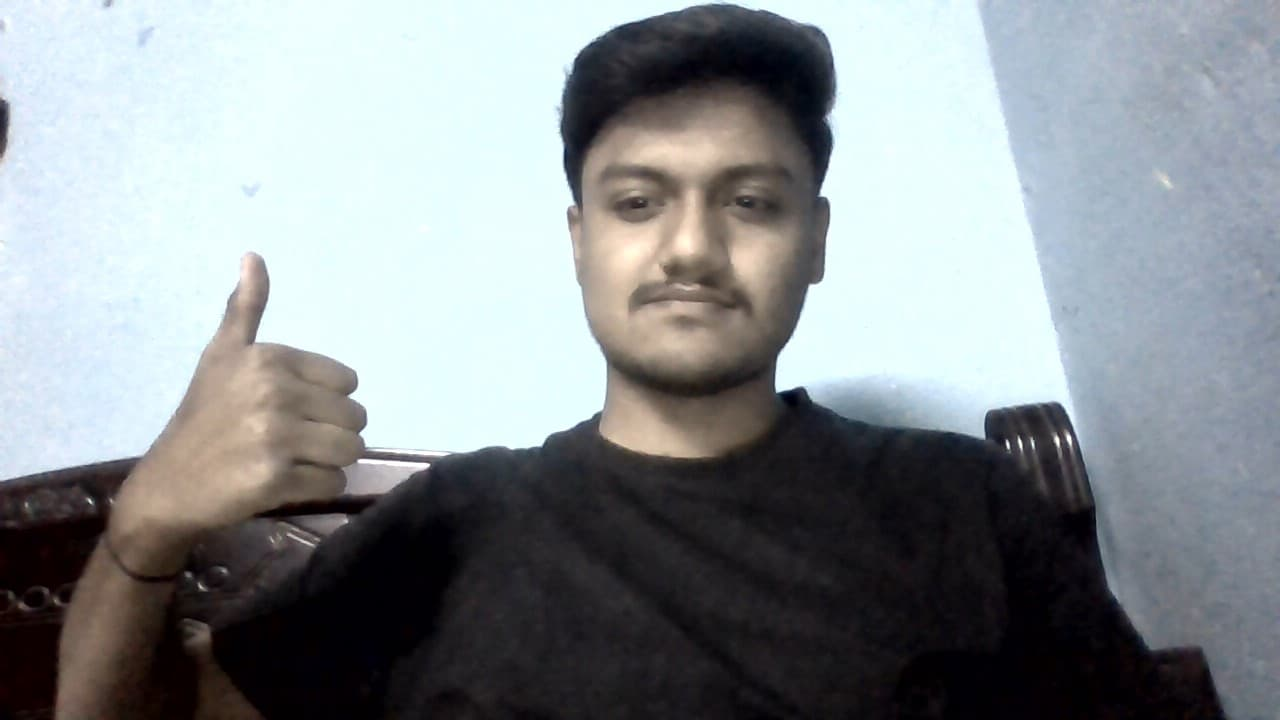hand: (149, 249, 373, 541)
